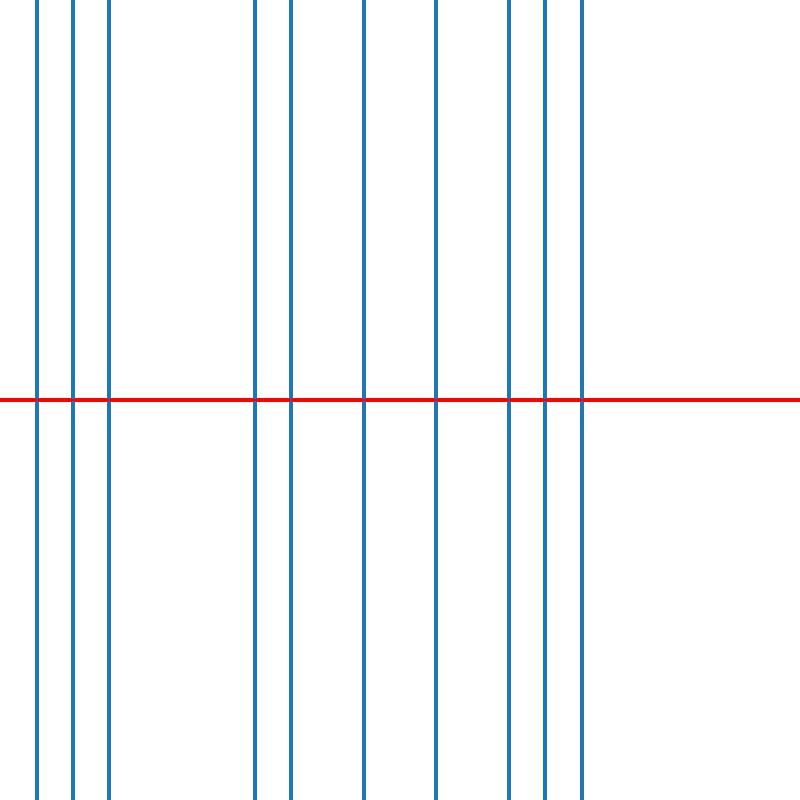root: (541, 396, 549, 404), (432, 396, 440, 404), (250, 396, 258, 404), (32, 396, 40, 404), (287, 396, 294, 404), (360, 396, 367, 404), (578, 396, 585, 404), (69, 396, 76, 404), (505, 396, 512, 404), (105, 396, 112, 404)
